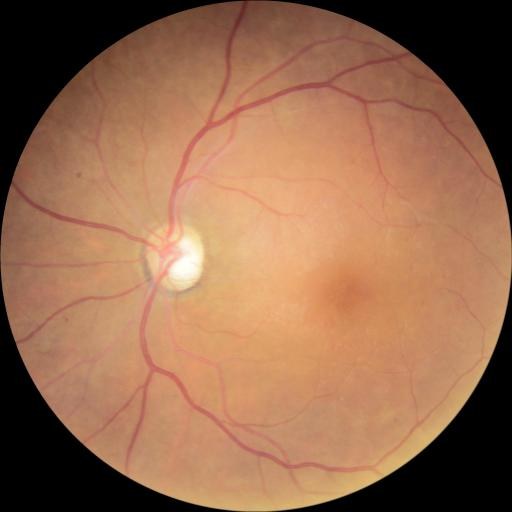Optic Cup: (165, 239, 200, 280)
Optic Disc: (144, 222, 205, 293)
